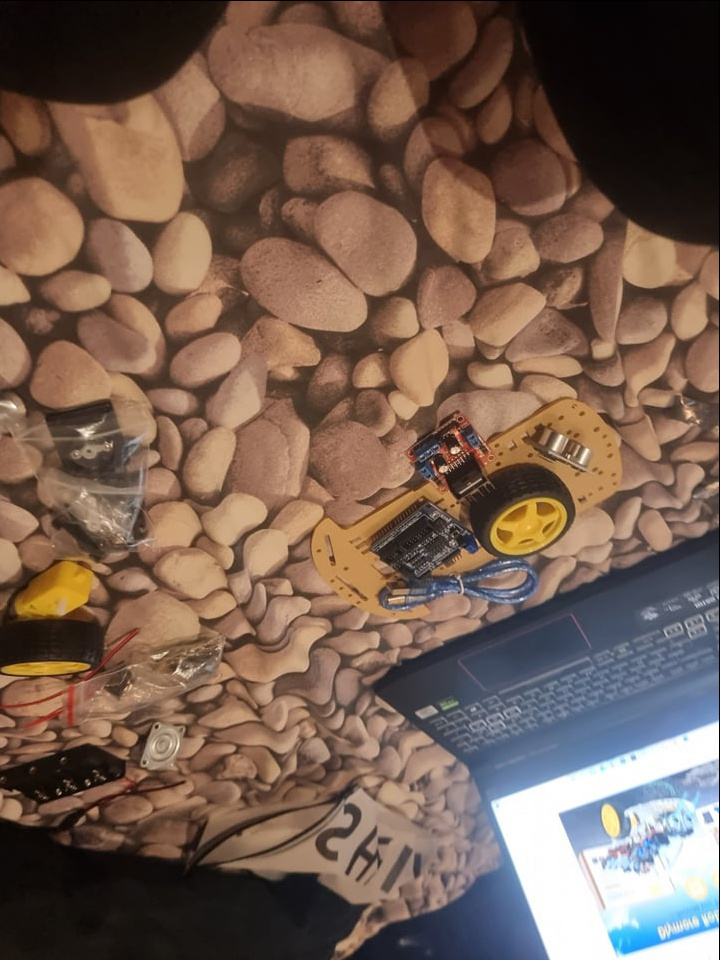5V EXPANSION: (368, 497, 478, 583)
BATTERY BOX: (8, 742, 127, 818)
MOTOR: (406, 409, 497, 498)
SENSOR: (533, 425, 597, 469)
